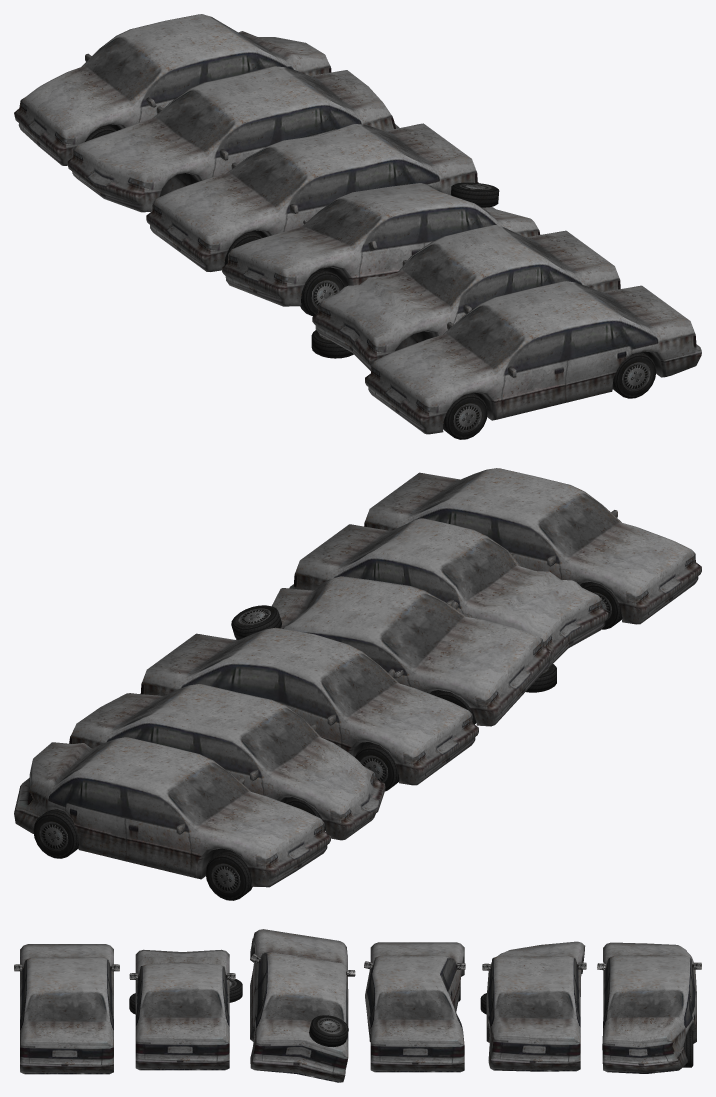
Rendered from Car1.fbx.
3 renders of one model, top to bottom at view 1: azimuth 30°, elevation 25°; view 2: azimuth 150°, elevation 25°; view 3: azimuth 270°, elevation 25°, orthographic. The views are drawn at different scales.
Parts seen in each view (by area): view 1: Car1, Car1_Damaged4, Car1_Damaged3, Car1_Damaged1, Car1_Damaged5, Car1_Damaged2, Front_Left, Back_Left; view 2: Car1_Damaged5, Car1_Damaged3, Car1, Car1_Damaged2, Car1_Damaged4, Car1_Damaged1, Front_Right; view 3: Car1_Damaged2, Car1_Damaged3, Car1, Car1_Damaged5, Car1_Damaged4, Car1_Damaged1.
Part boxes in pixels (x1,y1,x2,y2): Car1: (365, 281, 701, 434); Car1_Damaged4: (67, 66, 399, 212); Car1_Damaged3: (146, 123, 478, 271); Car1_Damaged1: (311, 225, 620, 370); Car1_Damaged5: (14, 14, 331, 165); Car1_Damaged2: (222, 182, 540, 316); Front_Left: (443, 392, 487, 439); Back_Left: (612, 352, 656, 398); Car1_Damaged5: (14, 737, 330, 900); Car1_Damaged3: (140, 627, 478, 791); Car1: (364, 468, 701, 624); Car1_Damaged2: (231, 576, 551, 726); Car1_Damaged4: (69, 684, 385, 840); Car1_Damaged1: (289, 518, 608, 692); Front_Right: (583, 582, 622, 629); Car1_Damaged2: (250, 929, 355, 1082); Car1_Damaged3: (364, 942, 465, 1072); Car1: (20, 944, 113, 1074); Car1_Damaged5: (597, 942, 701, 1073); Car1_Damaged4: (480, 941, 586, 1071); Car1_Damaged1: (129, 949, 242, 1070).
Bounding box in the file's own units: 3.87 × 1.29 × 10.03.
